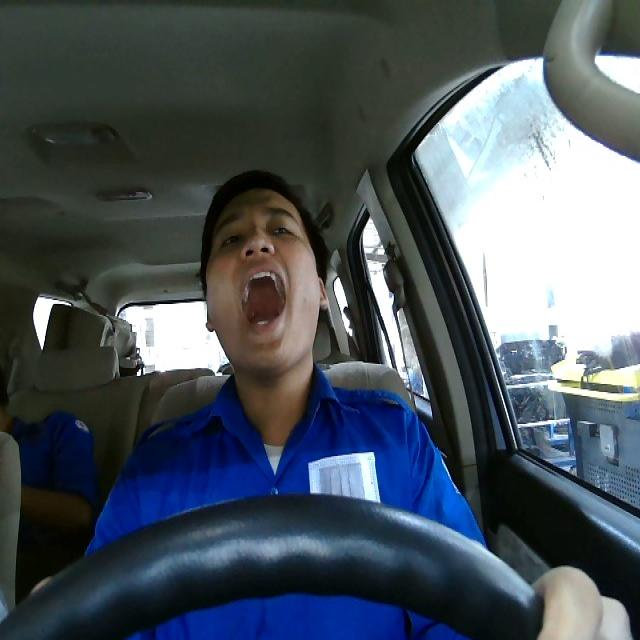yarning: (204, 187, 328, 377)
